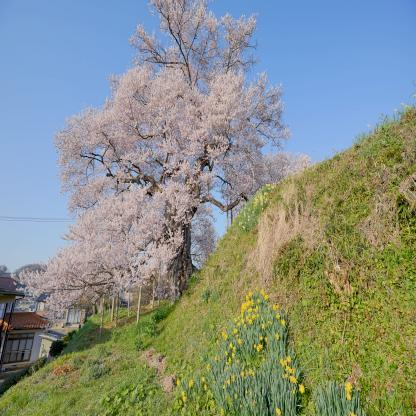EdohiganSakura: (9, 0, 311, 320)
